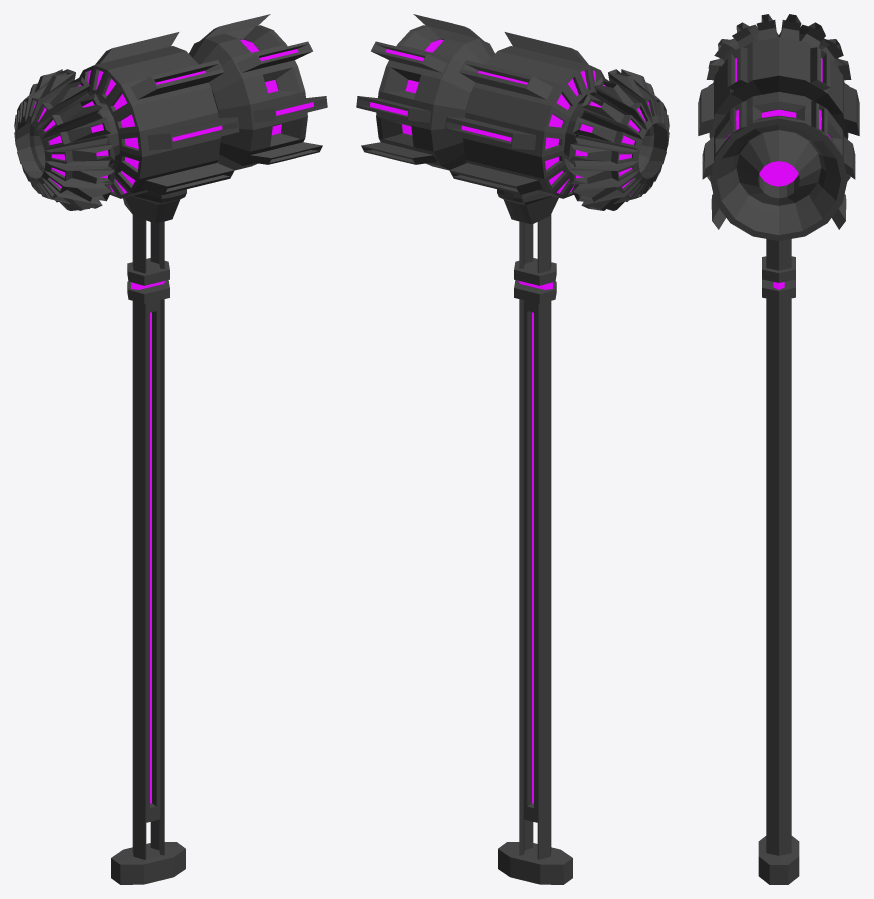
Rendered from Hammer001.fbx.
3 renders of one model, left to right at view 1: azimuth 30°, elevation 25°; view 2: azimuth 150°, elevation 25°; view 3: azimuth 270°, elevation 25°, orthographic.
Visible parts, largest first — view 1: Hammer; view 2: Hammer; view 3: Hammer.
Part boxes in pixels (bbox=[...]): Hammer: bbox=[14, 14, 327, 884]; Hammer: bbox=[356, 14, 669, 884]; Hammer: bbox=[698, 14, 859, 884].
Size of the model in its own units: 68.43 by 206 by 37.08.
